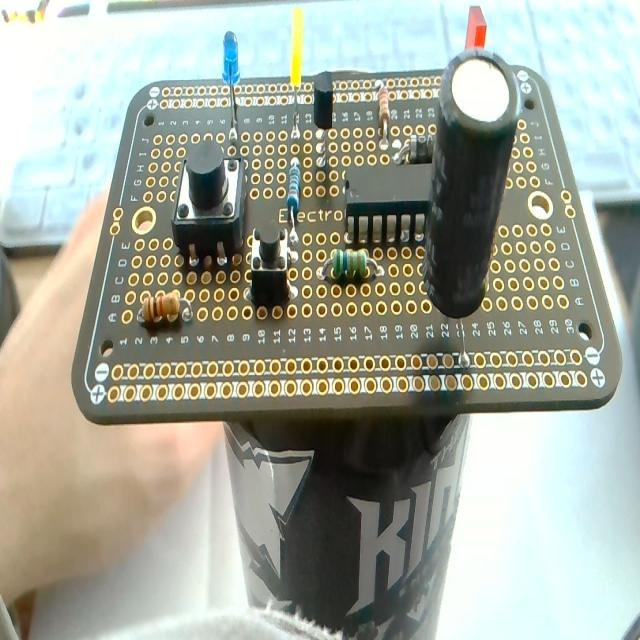Electrolytic capacitor: (424, 51, 517, 315)
IC: (343, 164, 459, 244)
diode: (398, 131, 439, 161)
led: (454, 7, 496, 82), (222, 29, 241, 145), (289, 9, 304, 142)
resistor: (319, 249, 383, 283), (138, 291, 195, 329), (286, 157, 301, 248), (376, 82, 391, 140)
switch: (170, 142, 249, 266), (249, 225, 291, 305)
transistor: (314, 71, 334, 170)
